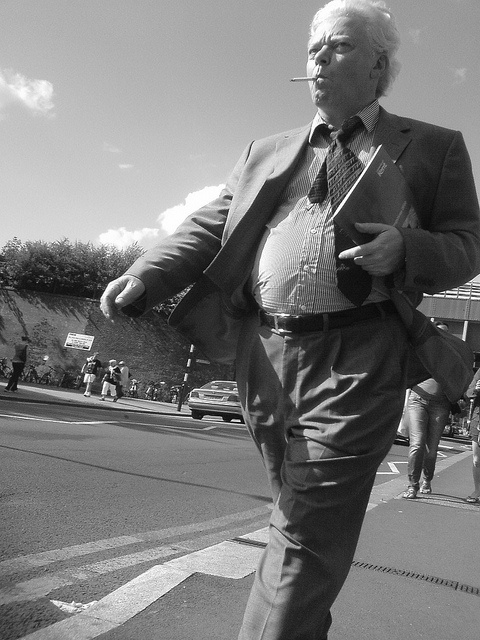non-vehicle: (39, 365, 57, 385), (128, 378, 141, 399), (148, 381, 159, 401), (28, 364, 35, 382)
